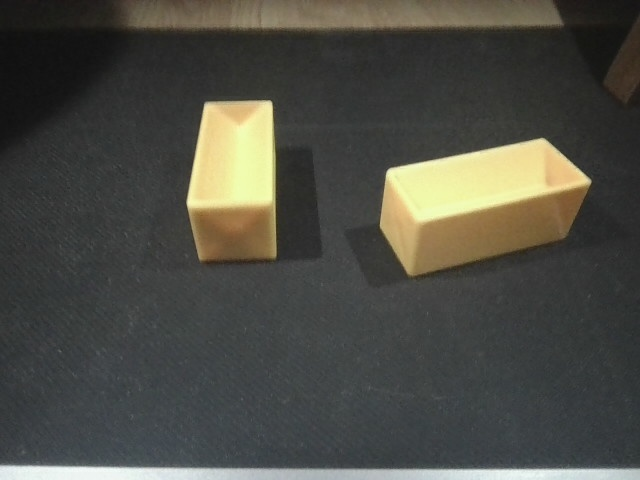YellowSample: (376, 135, 595, 280), (184, 96, 282, 264)
